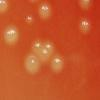white: (23, 53, 40, 75), (4, 24, 19, 46), (49, 55, 64, 75), (38, 0, 52, 21), (78, 17, 90, 34), (44, 40, 54, 58), (78, 0, 91, 11), (0, 0, 9, 15), (39, 47, 48, 62), (32, 40, 41, 53), (24, 14, 33, 25)
